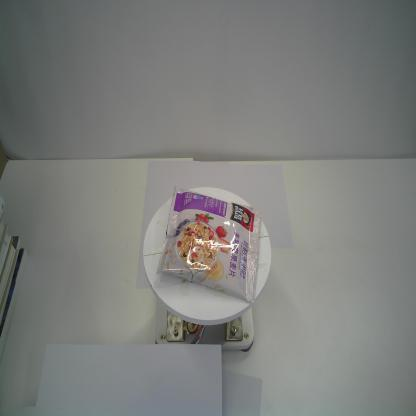Instant Drink: (156, 184, 262, 304)
